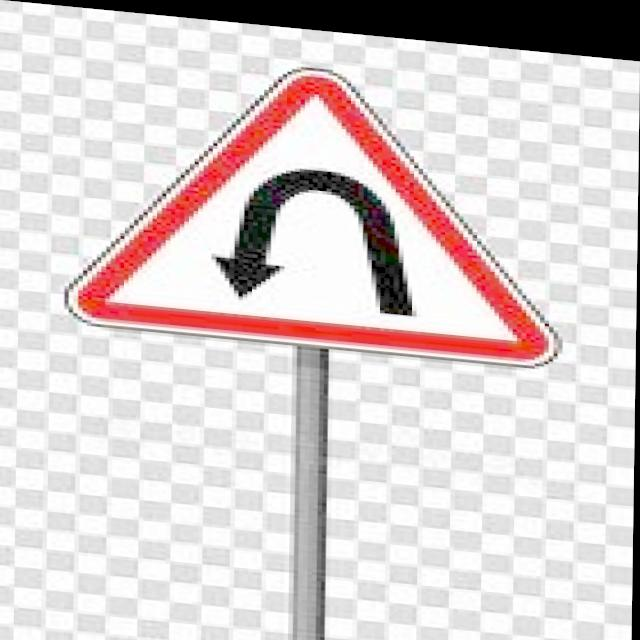LEFT_HAIR_PIN_BEND: (59, 41, 568, 362)
